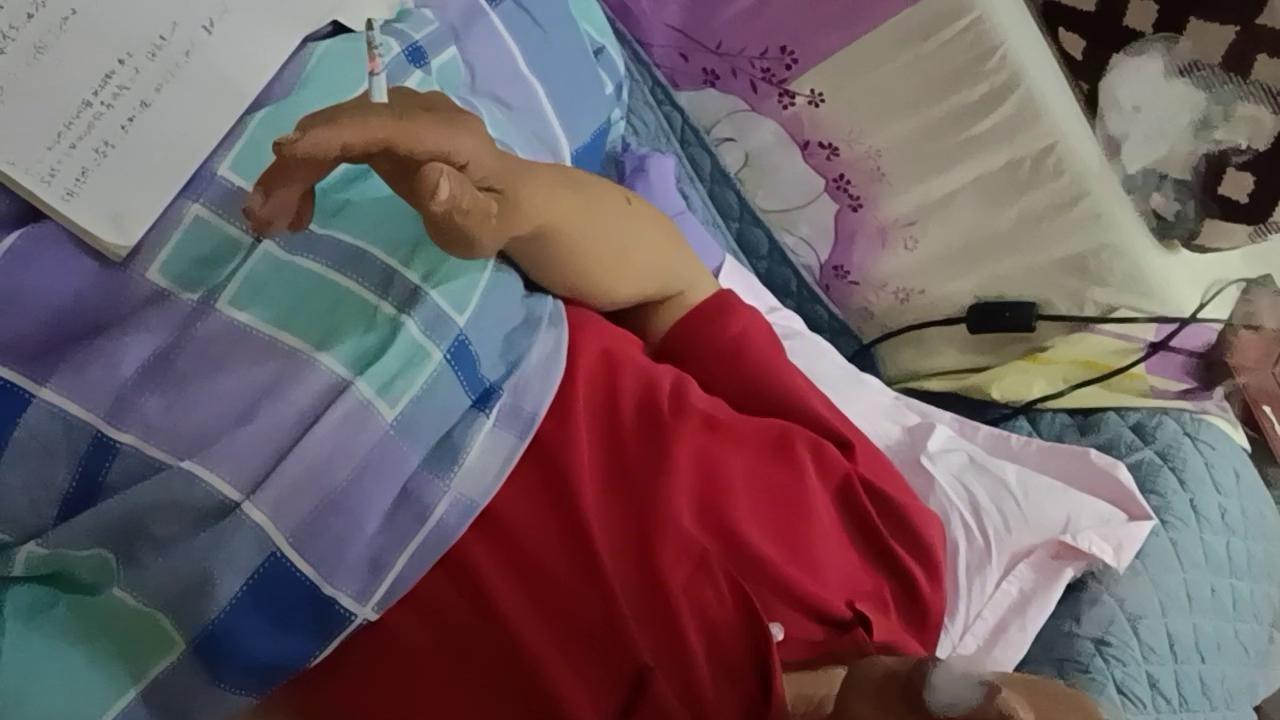smoke: (366, 18, 390, 128)
